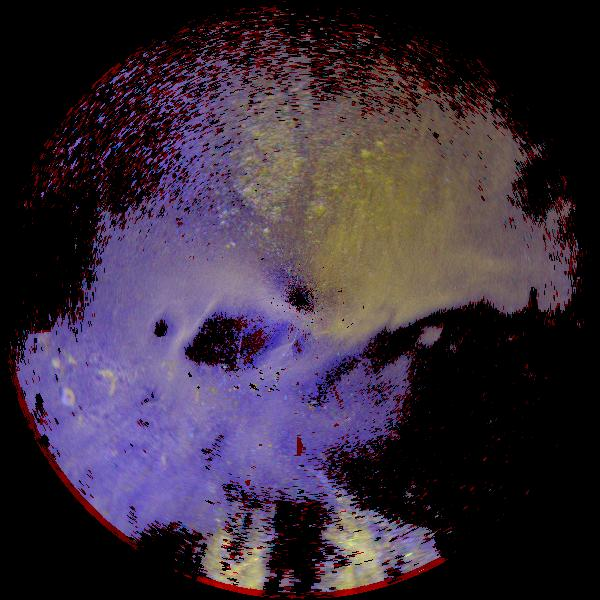roost: (90, 369, 120, 399), (61, 389, 76, 404)
